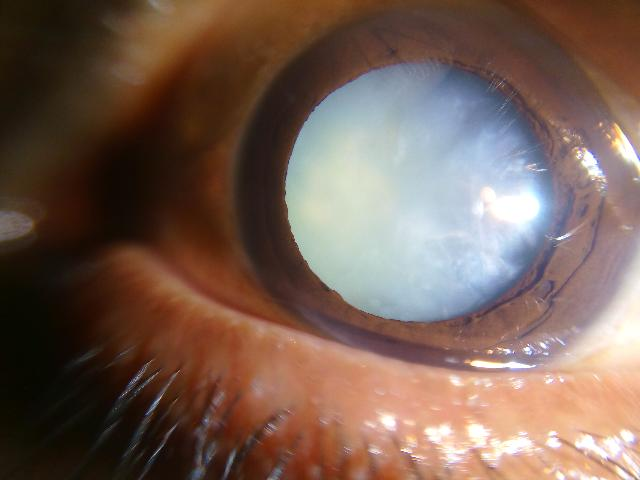eye: (226, 1, 640, 374)
